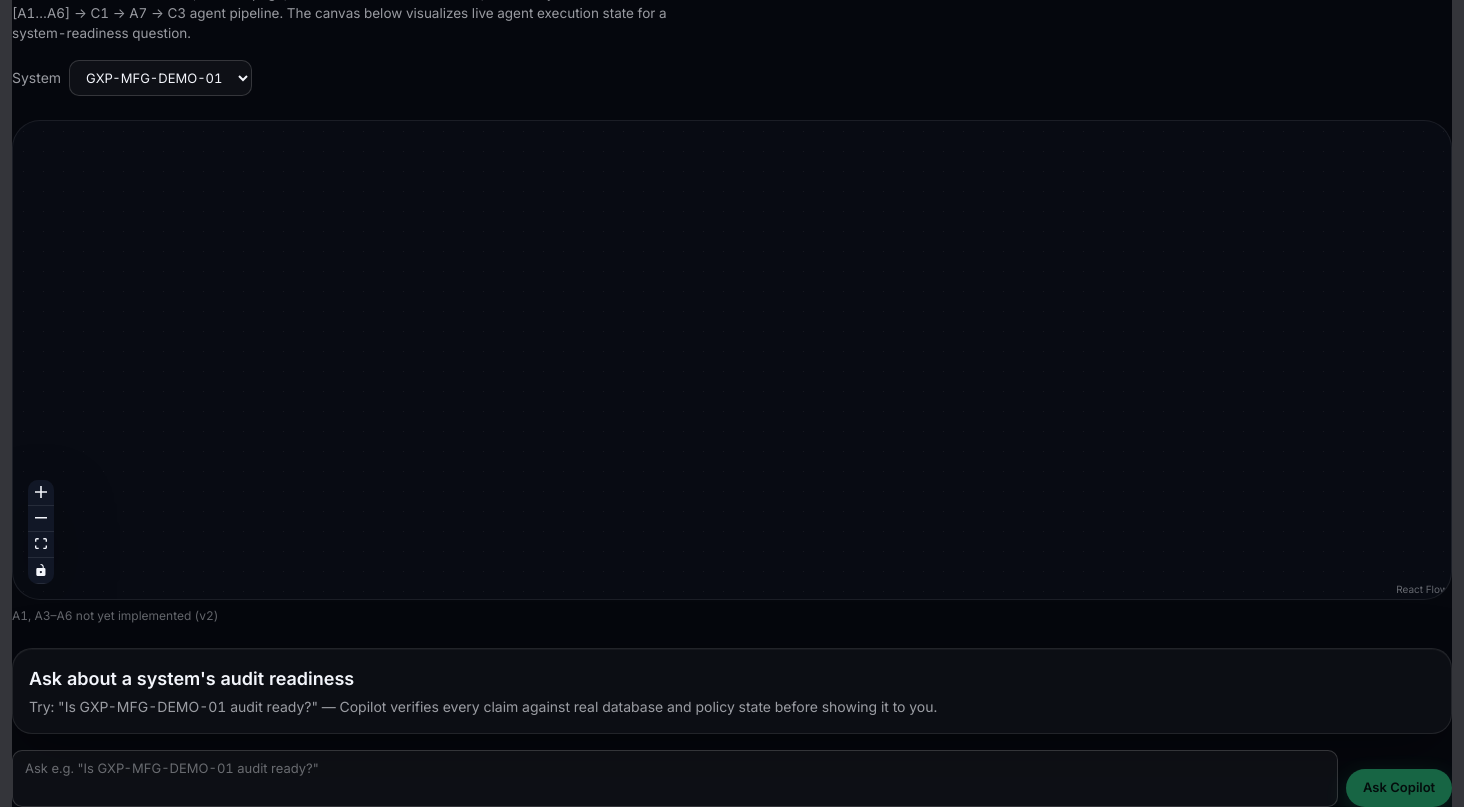
it: Copilot hero query › renders a user bubble then accumulates AssuranceCards in arrival order
This screenshot has width=1464, height=807.
(page scrolled)
Type "Is GXP-MFG-DEMO-01 audit ready?" into the text box with placeholder "Ask e.g. \"Is GXP-MFG-DEMO-01 audit ready?\"" at (675,778), box [12,750,1338,806]
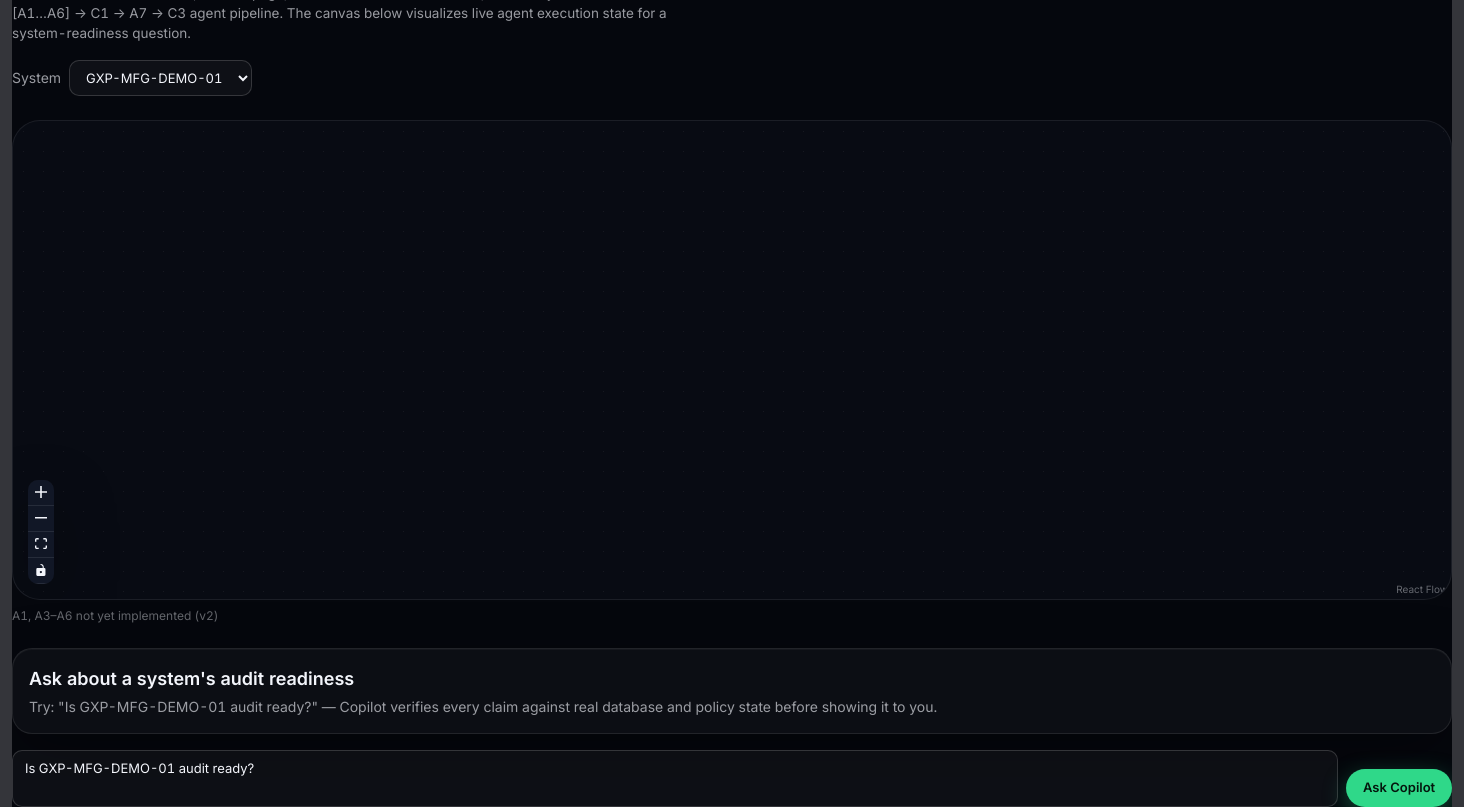
Click the button "Ask Copilot" at (1399,788), box [1346,769,1452,806]
(page scrolled)
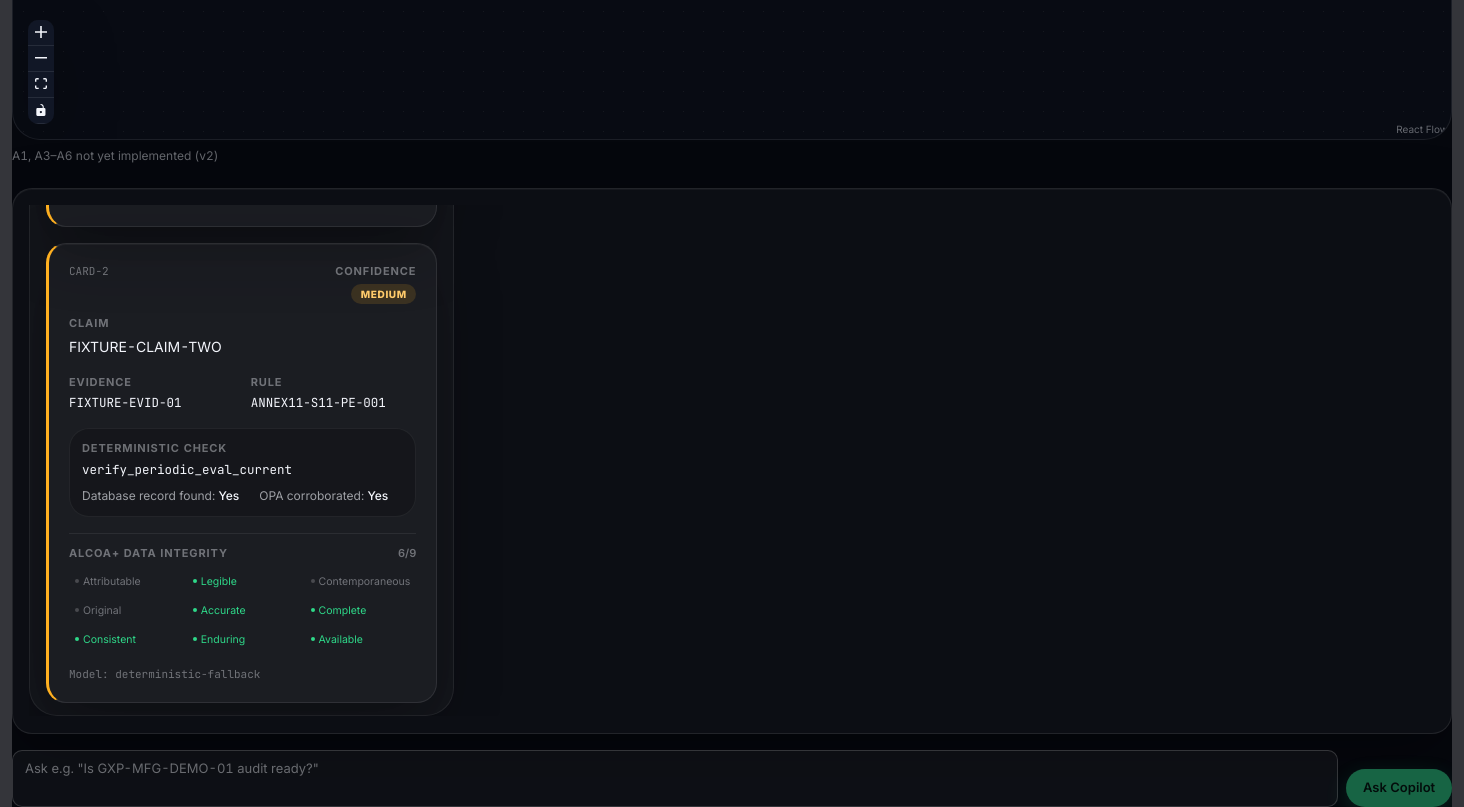
Now the number of elements with test id "assurance-card" is 2
Now the element with test id "assurance-card" shows "CARD-2", box [69,264,109,278]
